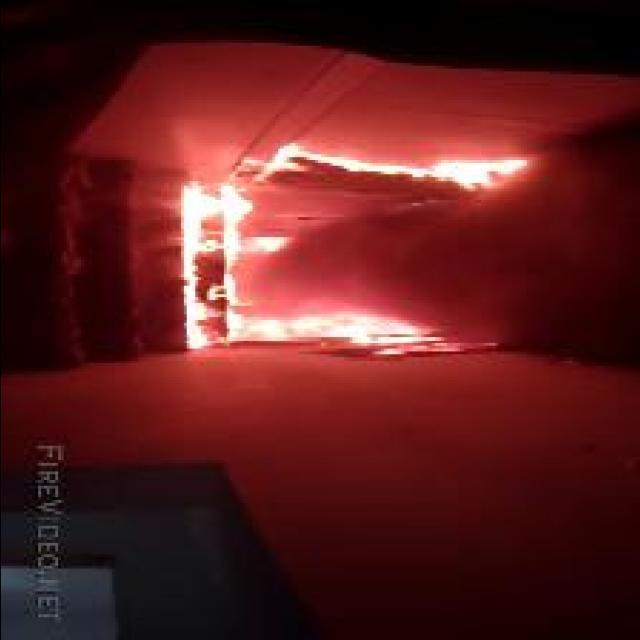Fire: (178, 177, 526, 354), (252, 146, 528, 192)
